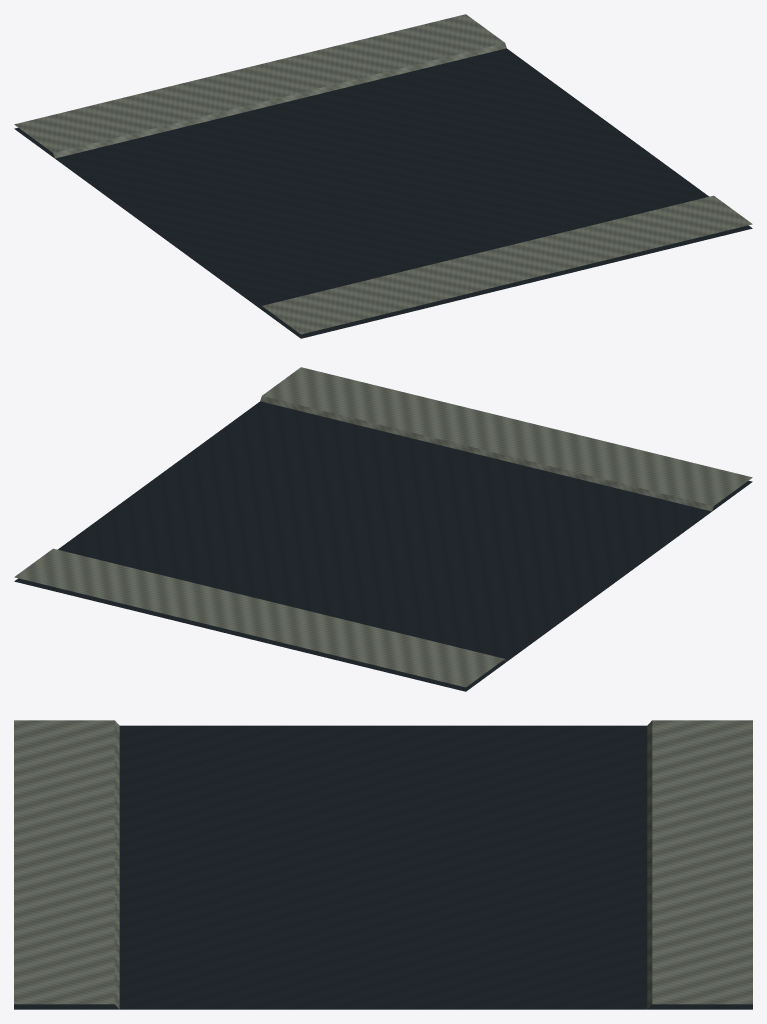
File: road_collector_4lane_16m_ShadowProxy.glb
3 renders of one model, top to bottom at view 1: azimuth 30°, elevation 25°; view 2: azimuth 150°, elevation 25°; view 3: azimuth 270°, elevation 25°, orthographic. The views are drawn at different scales.
Visible parts, largest first — view 1: road_collector_4lane_16m__surface.003; view 2: road_collector_4lane_16m__surface.003; view 3: road_collector_4lane_16m__surface.003.
Boxes of the visible parts, box(x1,y1,x2,y2) form: road_collector_4lane_16m__surface.003: box(14, 14, 752, 338); road_collector_4lane_16m__surface.003: box(14, 367, 752, 691); road_collector_4lane_16m__surface.003: box(14, 720, 752, 1009).
Size of the model in its own units: 16 by 0.145 by 17.6.
3 materials, 3 textured.
